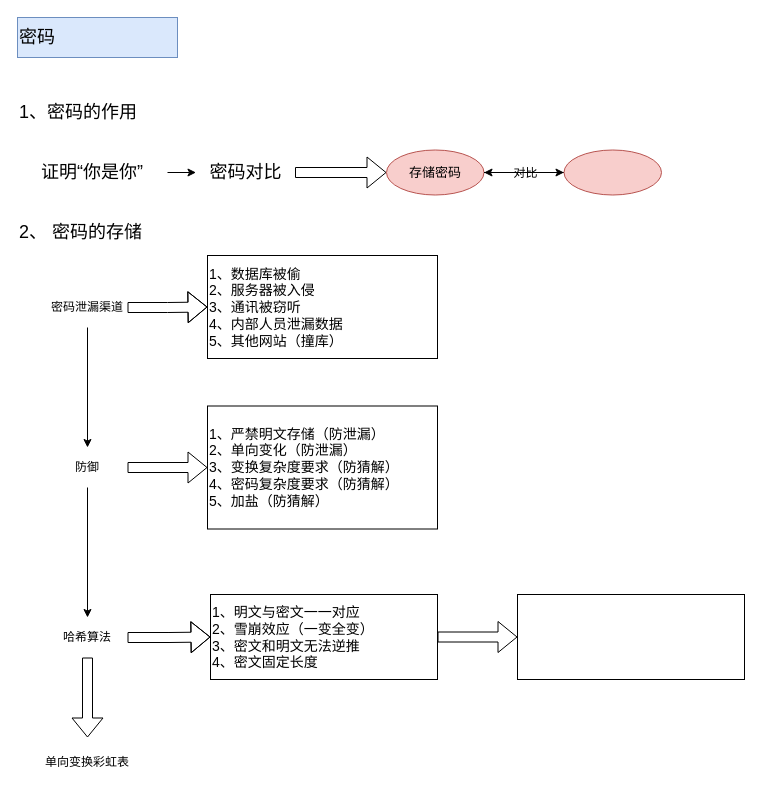
Image size: 762x805. Some labels were removed from this diagram. The centre of each missing label's shape, as x and y in pixels:
md5、sha1、sha256: point (630, 637)
输入密码: point (612, 172)
